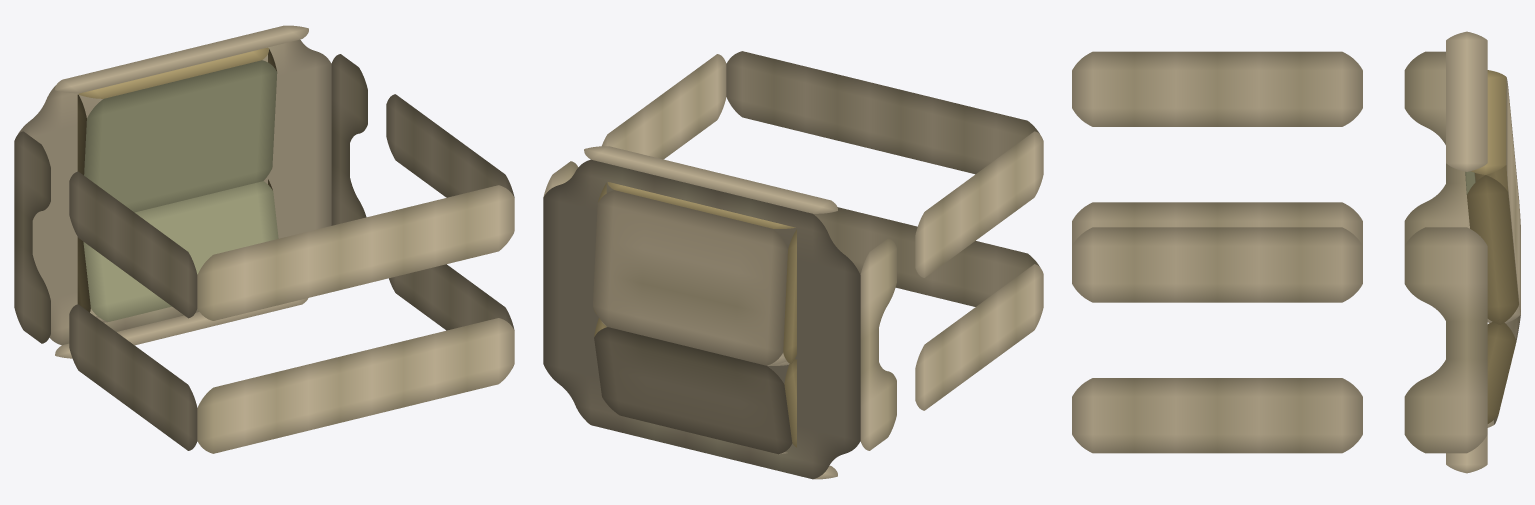
The model's file is tmspmg_p_l.obj.
3 renders of one model, left to right at view 1: azimuth 30°, elevation 25°; view 2: azimuth 150°, elevation 25°; view 3: azimuth 270°, elevation 25°, orthographic. The views are drawn at different scales.
Visible parts, largest first — view 1: mesh; view 2: mesh; view 3: mesh.
Boxes of the visible parts, left/top/right/bottom form: mesh: left=14, top=25, right=514, bottom=453; mesh: left=543, top=51, right=1043, bottom=479; mesh: left=1072, top=31, right=1520, bottom=473.
Size of the model in its own units: 0.3125 by 0.25 by 0.3375.
